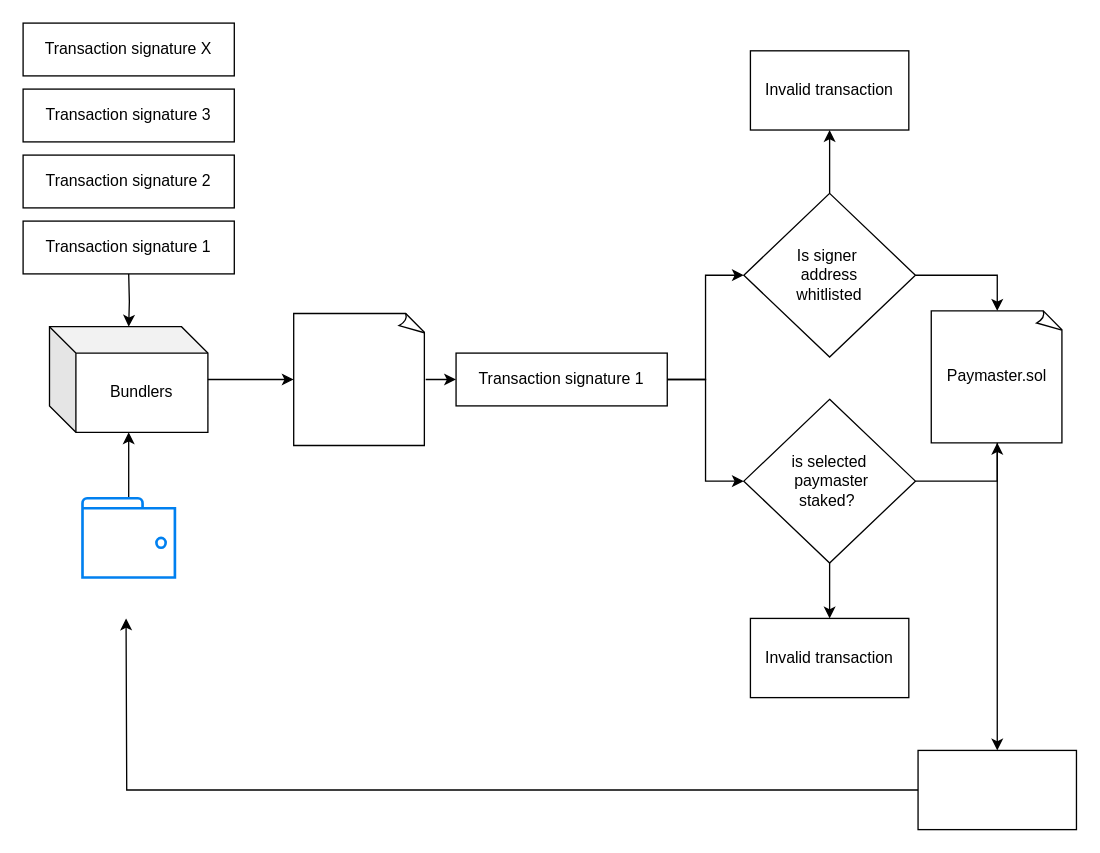
This 1100x853 diagram has some shape labels left out. The centre of each missing label's shape, as x and y in pixels:
Bundler EOA: (x=128, y=537)
Entrypoint.sol: (x=359, y=379)
Pay Gas: (x=996, y=789)
